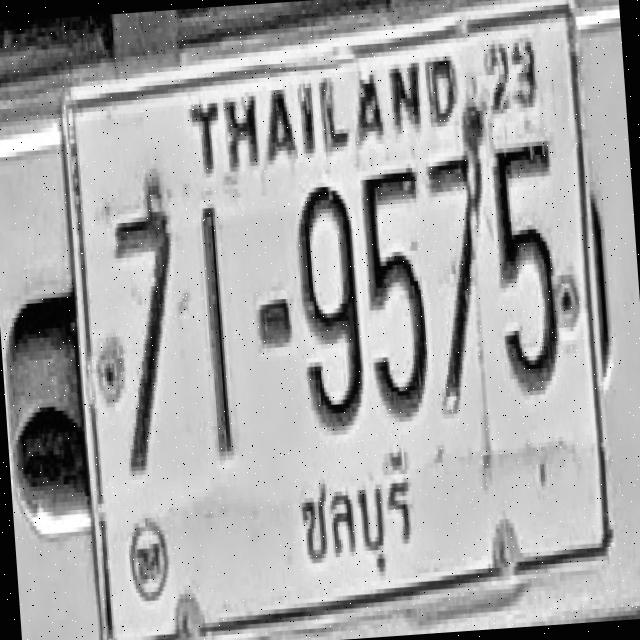1: (198, 201, 232, 454)
5: (490, 134, 568, 390), (358, 160, 432, 417)
7: (422, 119, 502, 410), (110, 178, 186, 469)
9: (293, 179, 365, 430)
Chonburi: (278, 441, 432, 596)
